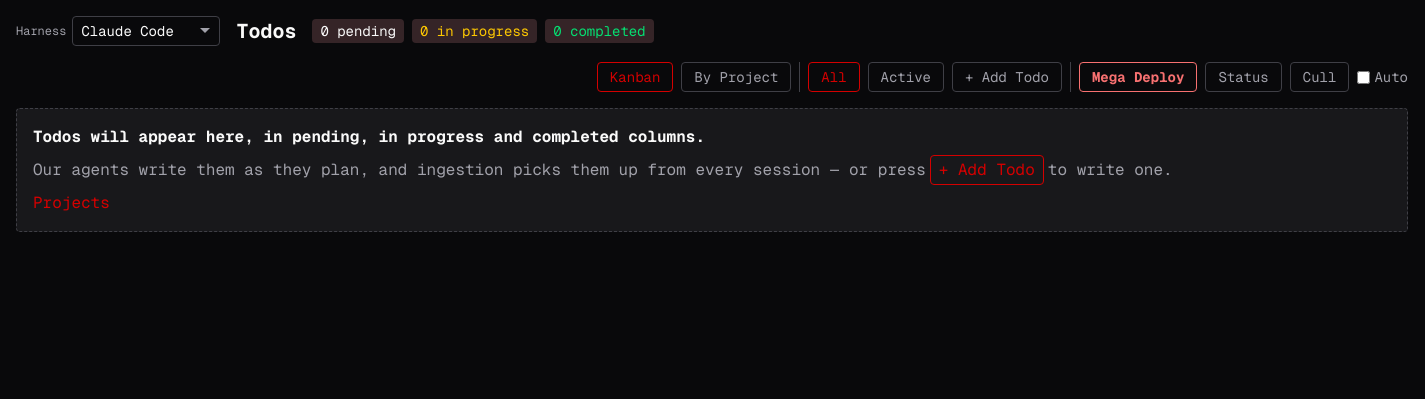
Test: mega deploy › shows what it launched, per project
Click the button "Mega Deploy" at [1138, 77], box x1=1079 y1=62 x2=1197 y2=92
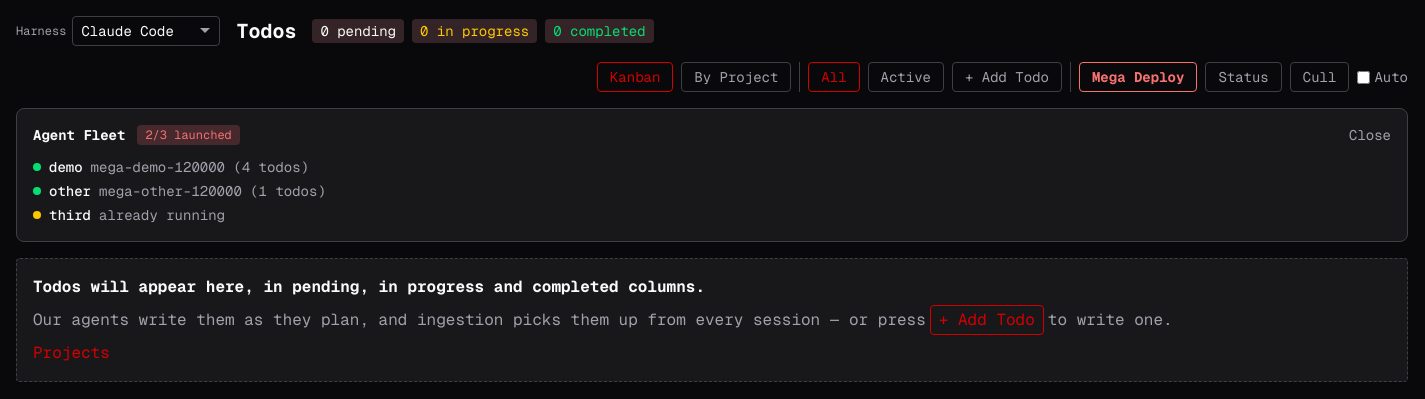
expect the text "mega-demo-120000" is shown: met, box x1=91 y1=158 x2=309 y2=176
expect the text "already running" is shown: met, box x1=99 y1=205 x2=225 y2=225
